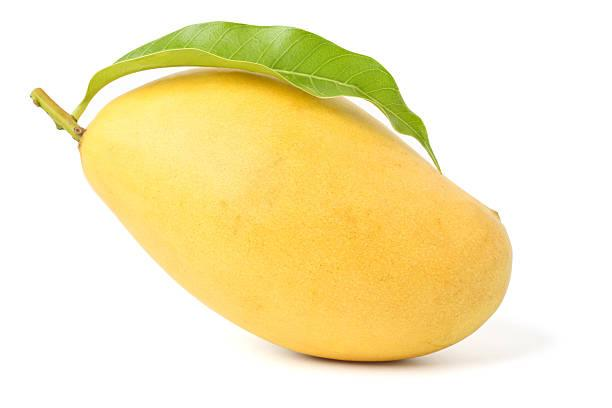mango: (19, 9, 534, 378)
